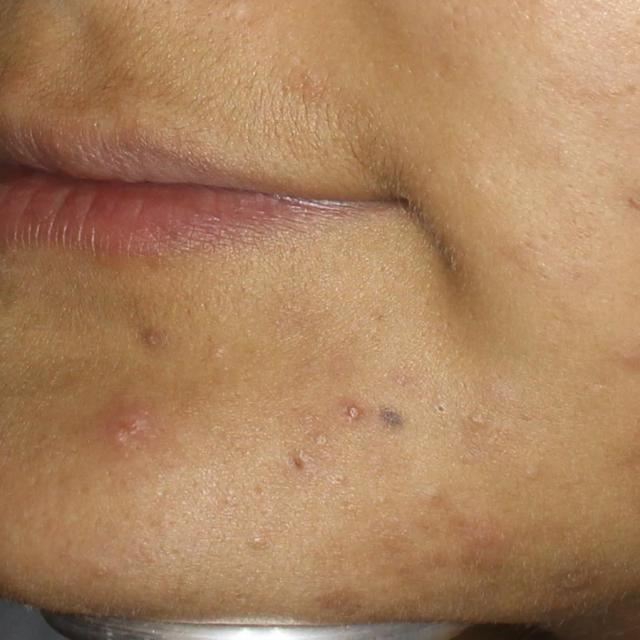blackhead: (345, 404, 363, 421), (294, 460, 303, 468)
